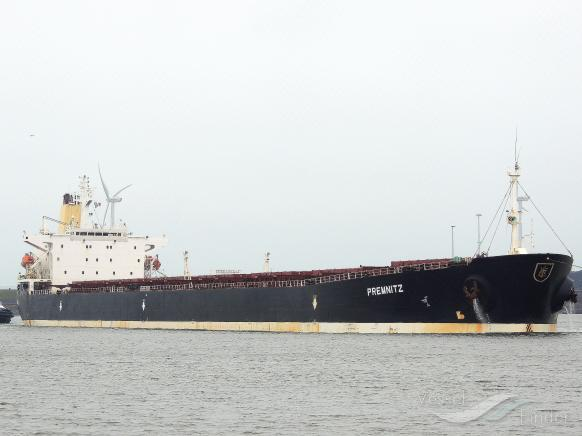OCR: (361, 280, 412, 298)
